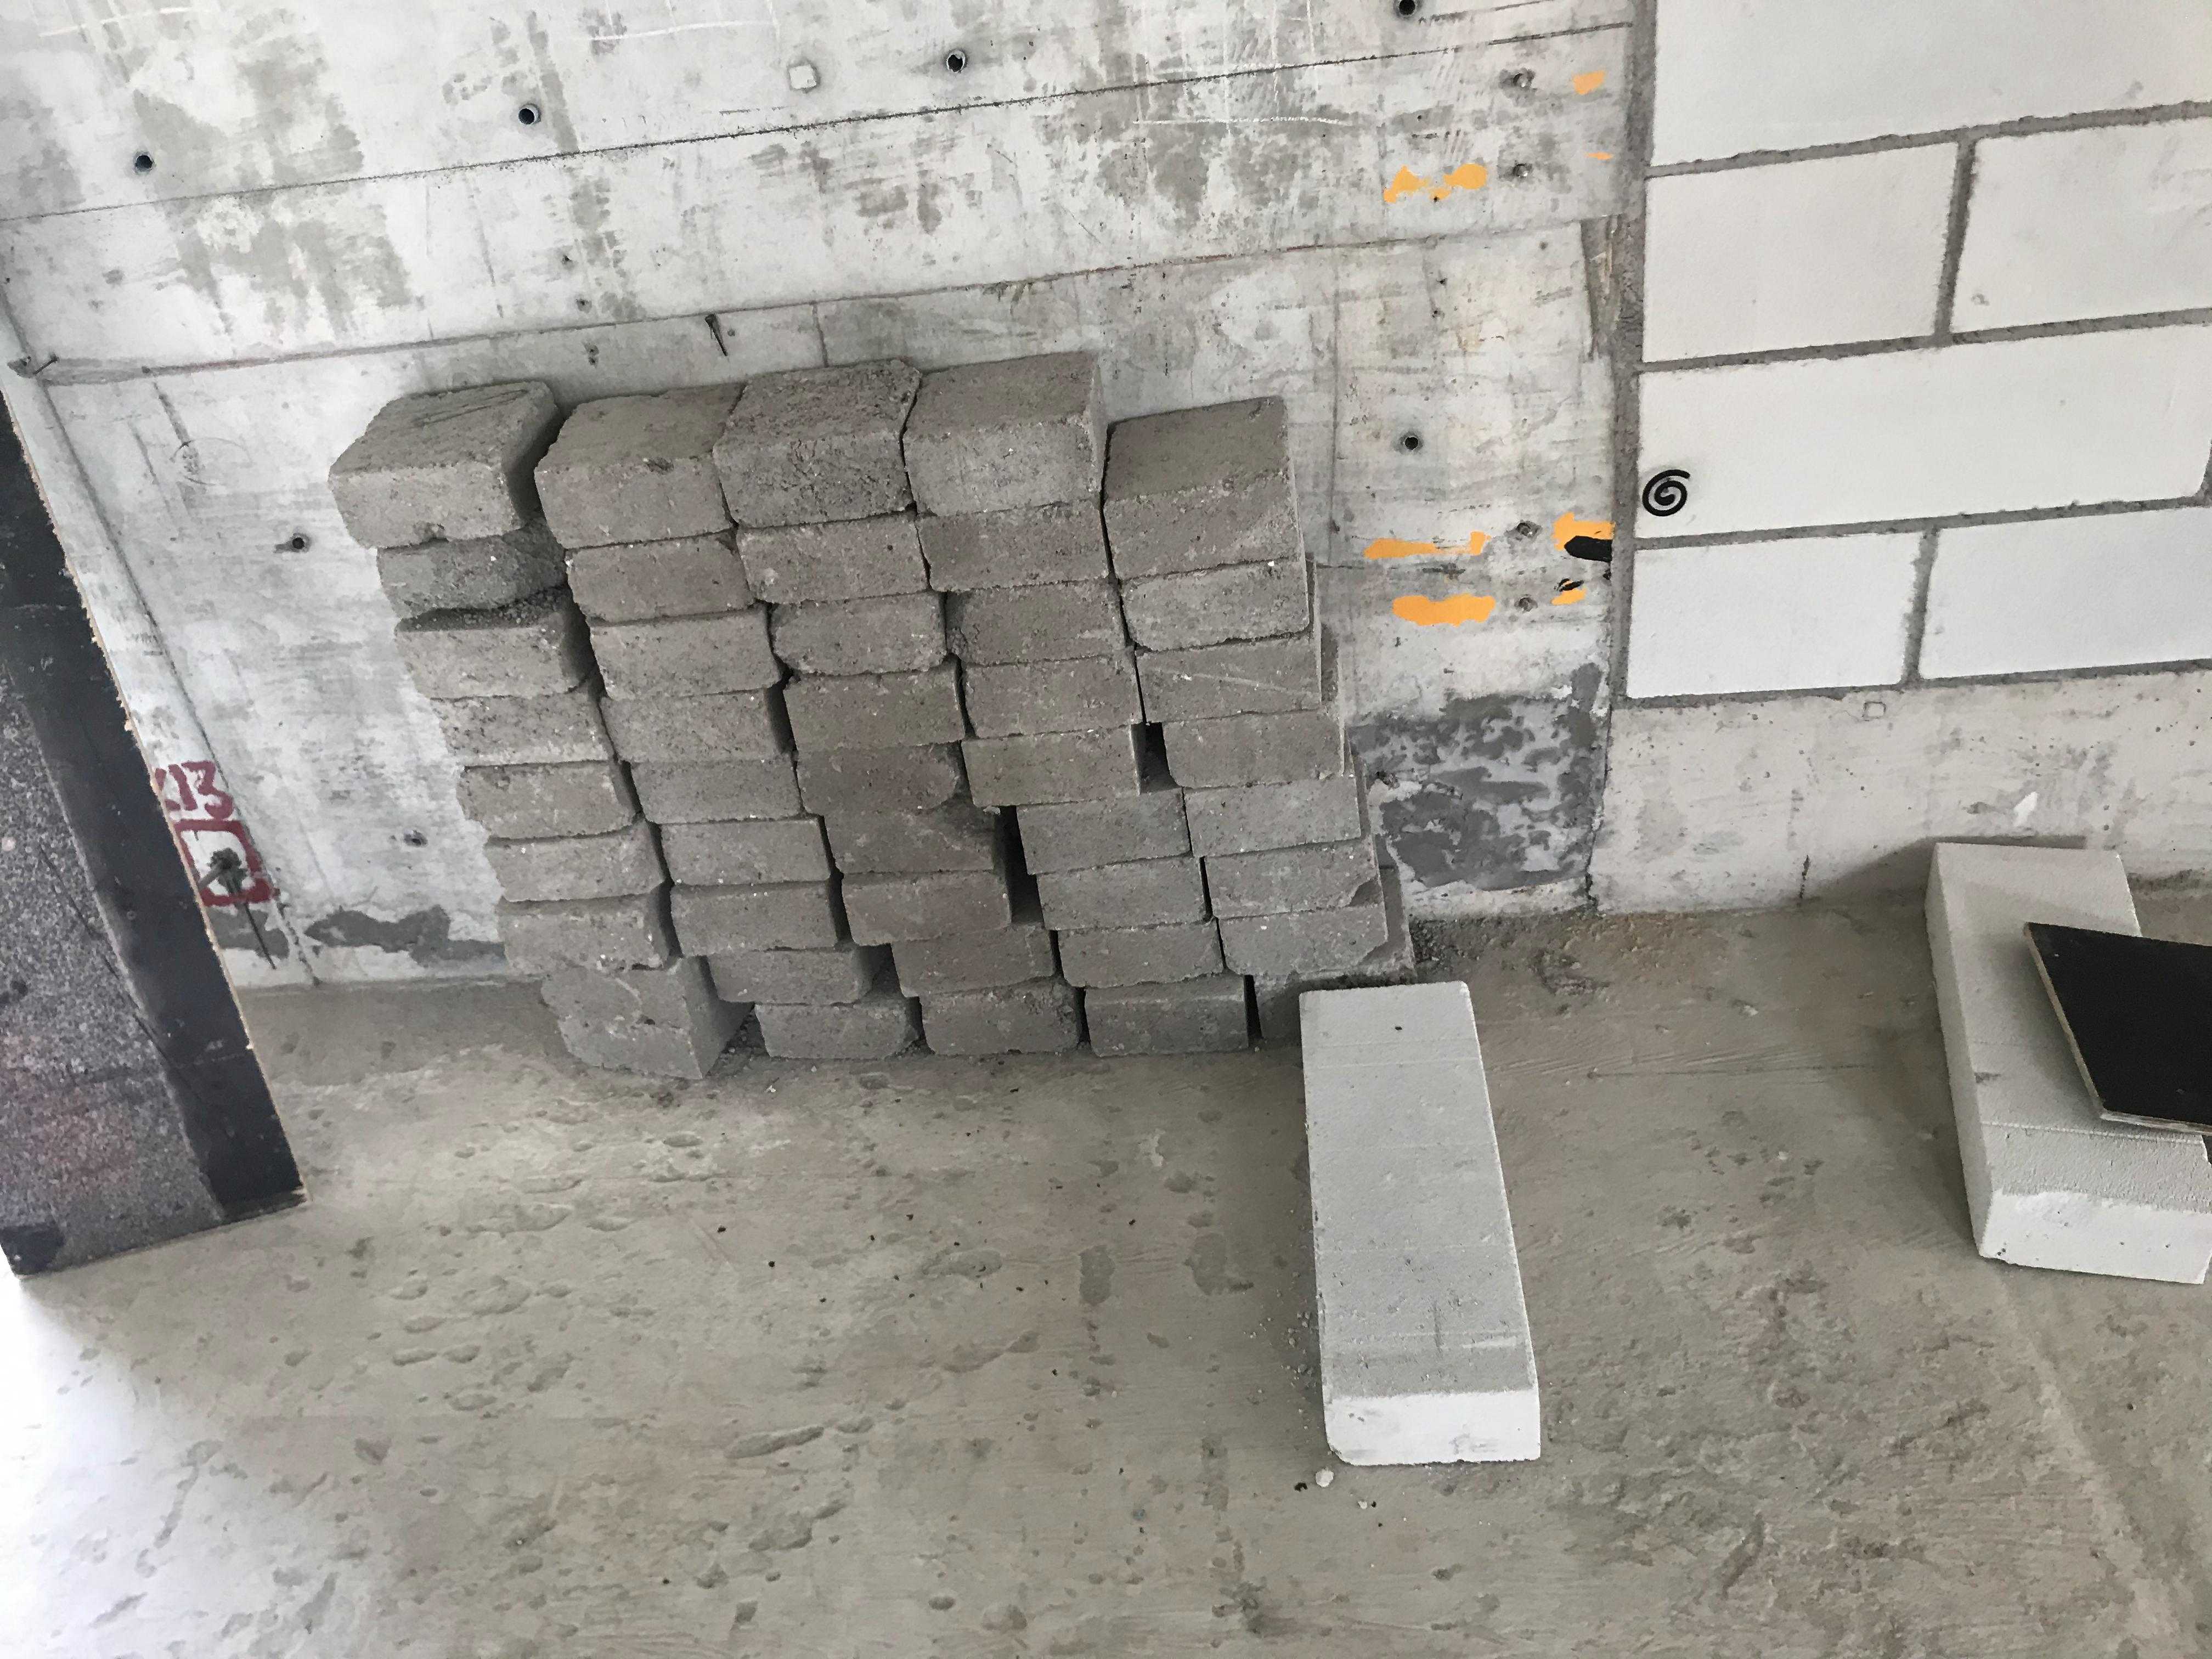brick: (327, 349, 1460, 1063), (1905, 838, 2212, 1274), (1285, 965, 1547, 1471)
